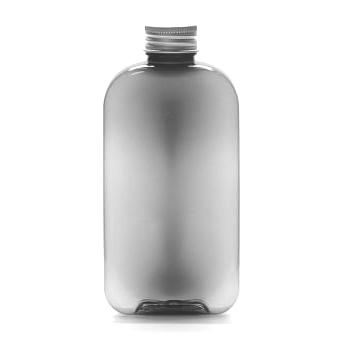bottle: (103, 24, 239, 316)
